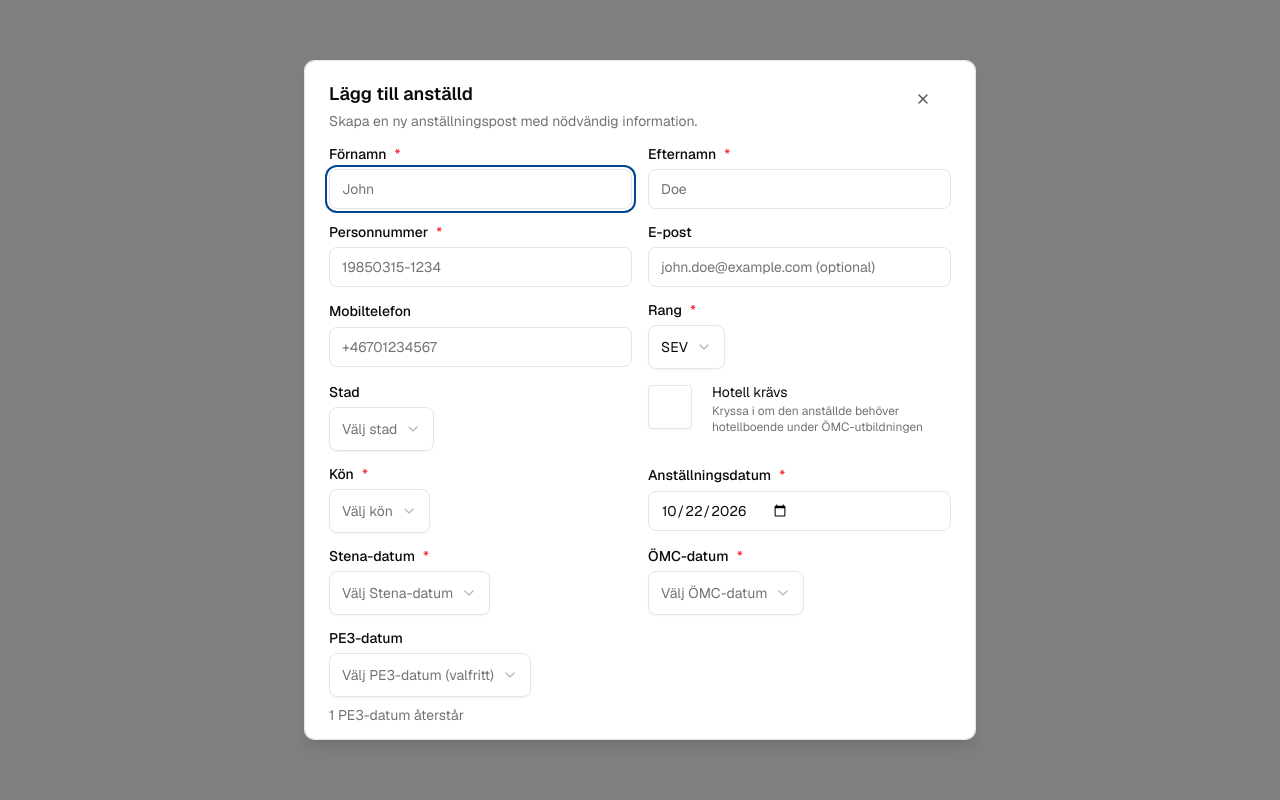
Test: Add Employee Modal - Unsaved Changes › shows confirmation dialog when pressing Escape with dirty form
The image size is (1280, 800).
# Enter data to make form dirty
Type "Bob" into the field with placeholder "John" at [480, 189], box [329,169,632,209]
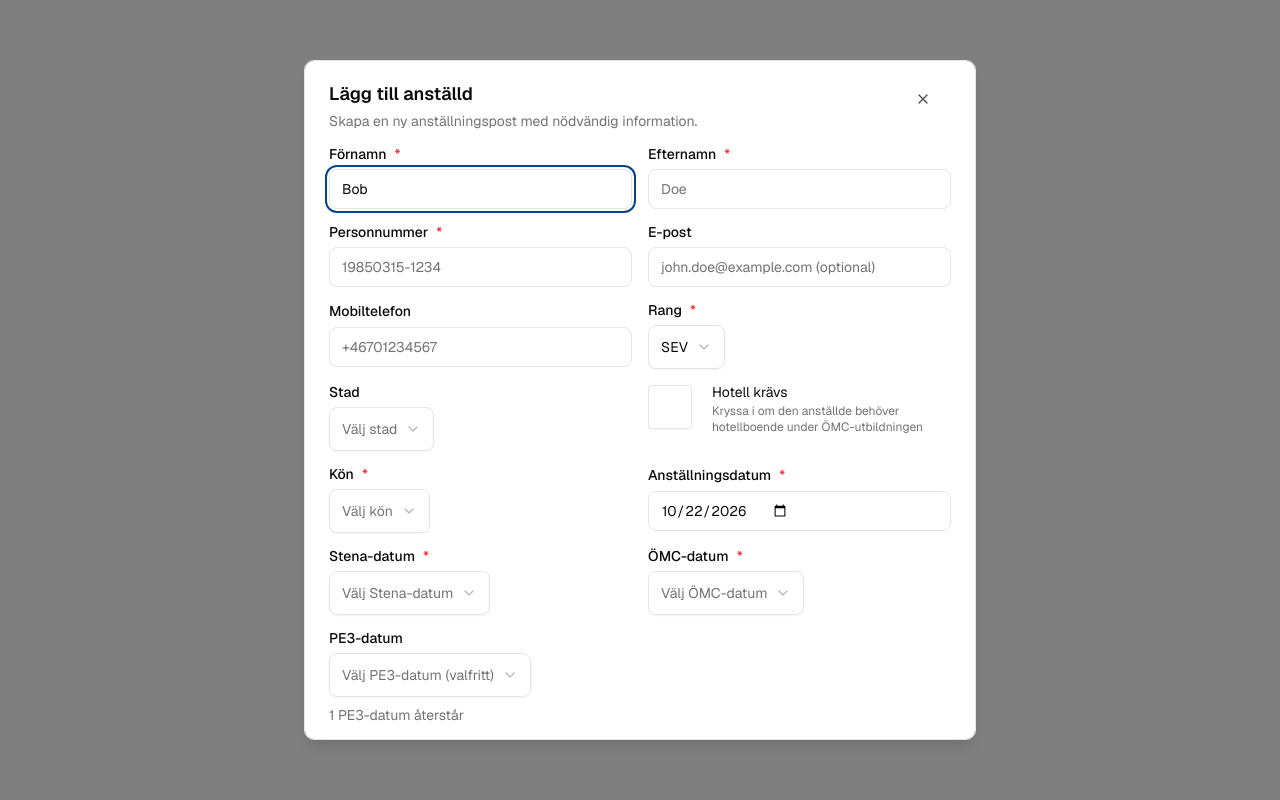
# Press Escape key
Press Escape
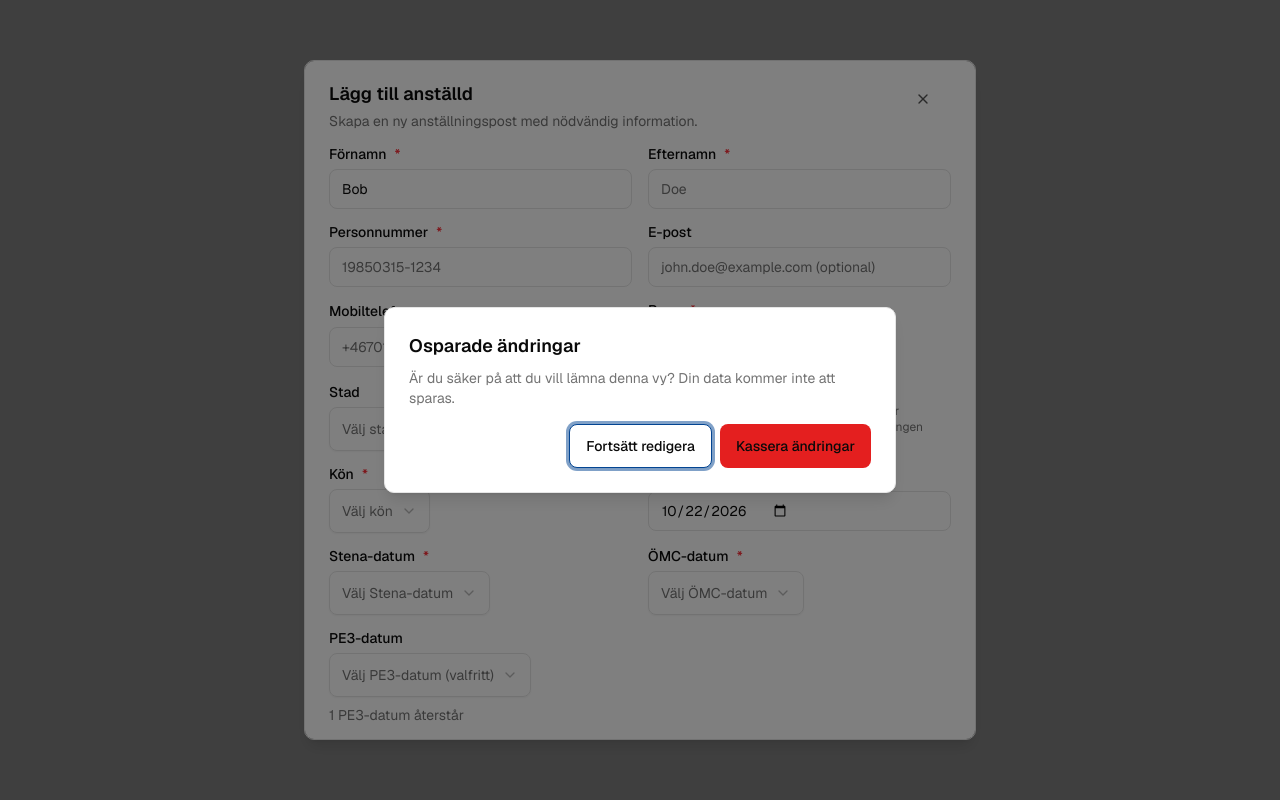
Expected: the heading "Osparade ändringar" is shown, [409,334,581,357]
